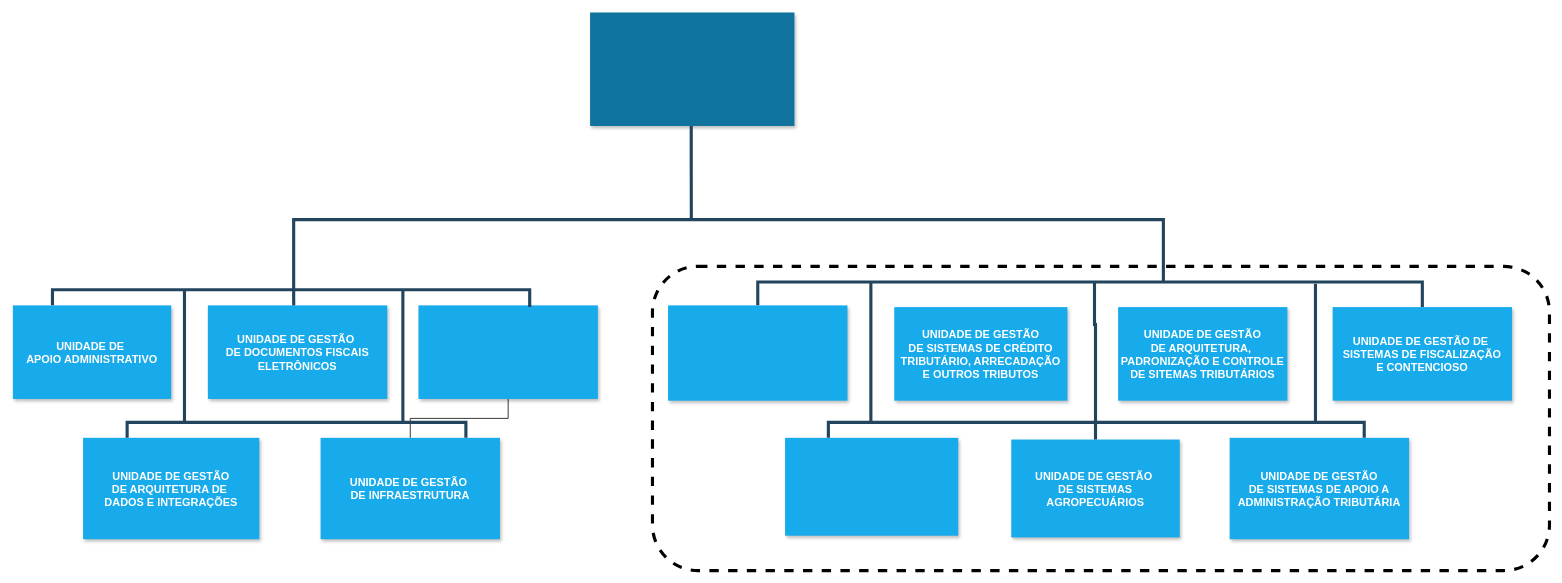
This 1562x583 diagram has some shape labels left out. Each missing label, with the centre of its shape:
"COORDENADORIA ESPECIAL DE TECNOLOGIA DA INFORMAÇÃO" belongs at point (693, 70).
"UNIDADE DE GESTÃO DE DADOS ANALÍTICOS TRIBIUTÁRIOS" belongs at point (508, 353).
"UNIDADE DE GESTÃO DE SISTEMAS DE ATENDIMENTO AO CONTRIBUINTE" belongs at point (758, 354).
"UNIDADE DE GESTÃO DE SISTEMAS DE OBRIGAÇÕES ACESSÓRIAS" belongs at point (872, 487).
